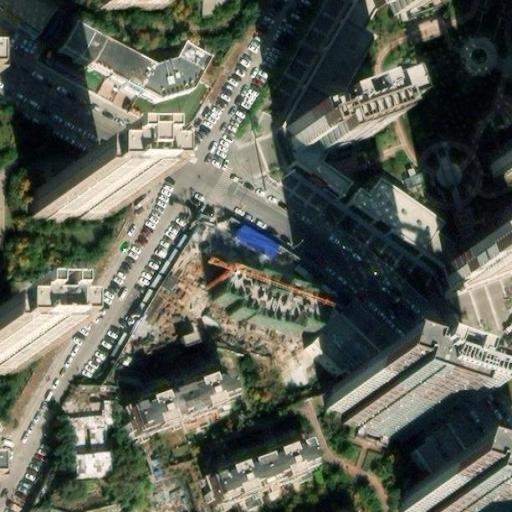building: (316, 313, 512, 512), (60, 30, 207, 105), (353, 174, 462, 270), (208, 277, 319, 341), (203, 446, 314, 508), (133, 367, 239, 427), (289, 97, 392, 157), (324, 387, 432, 442), (60, 398, 110, 476), (447, 227, 512, 279), (31, 176, 109, 219), (180, 318, 216, 379), (237, 222, 281, 257), (395, 495, 473, 512), (507, 135, 512, 152)
